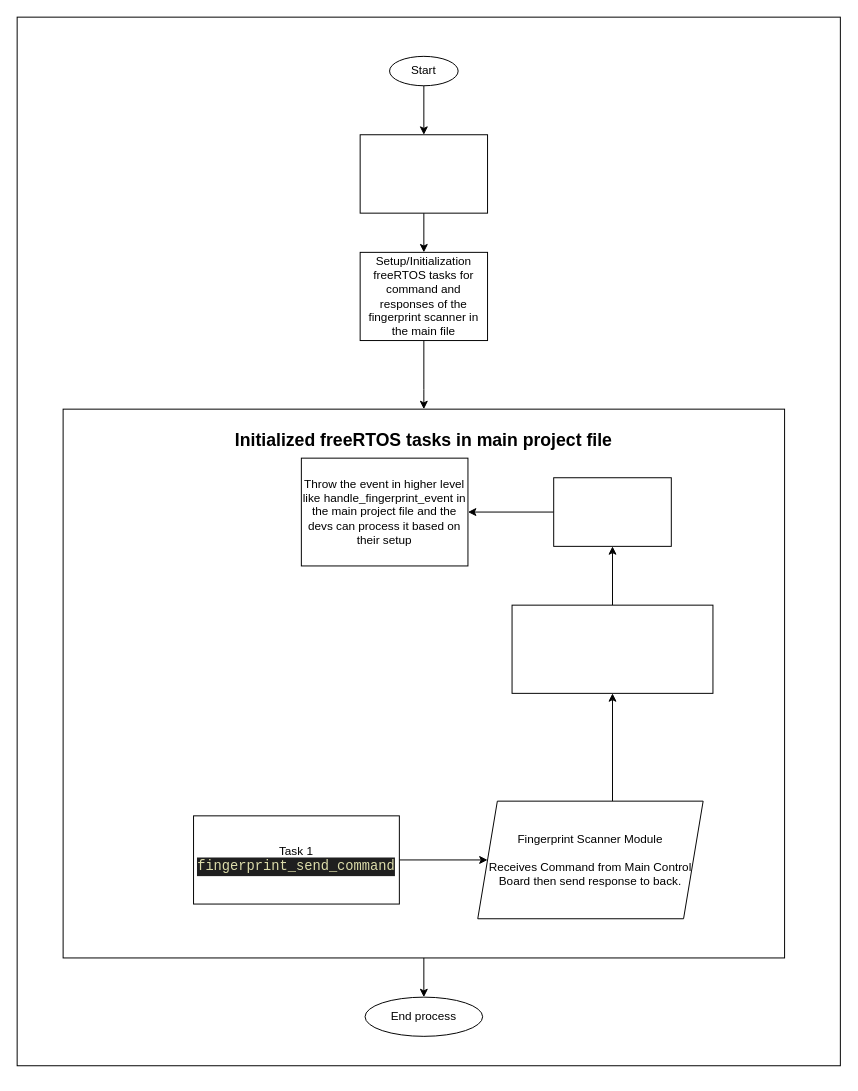
The diagram is 858 pixels wide and 1091 high, and some of its shapes have lost their labels. The shapes that lost their labels are listed below. From the top down, each one's centre as x and y in pixels, then its label:
point 423,173: Initialize fingerprint library/header
point 612,511: Extract confirmation/status id throw an event
point 612,648: Task 2 fingerprint_read_response
